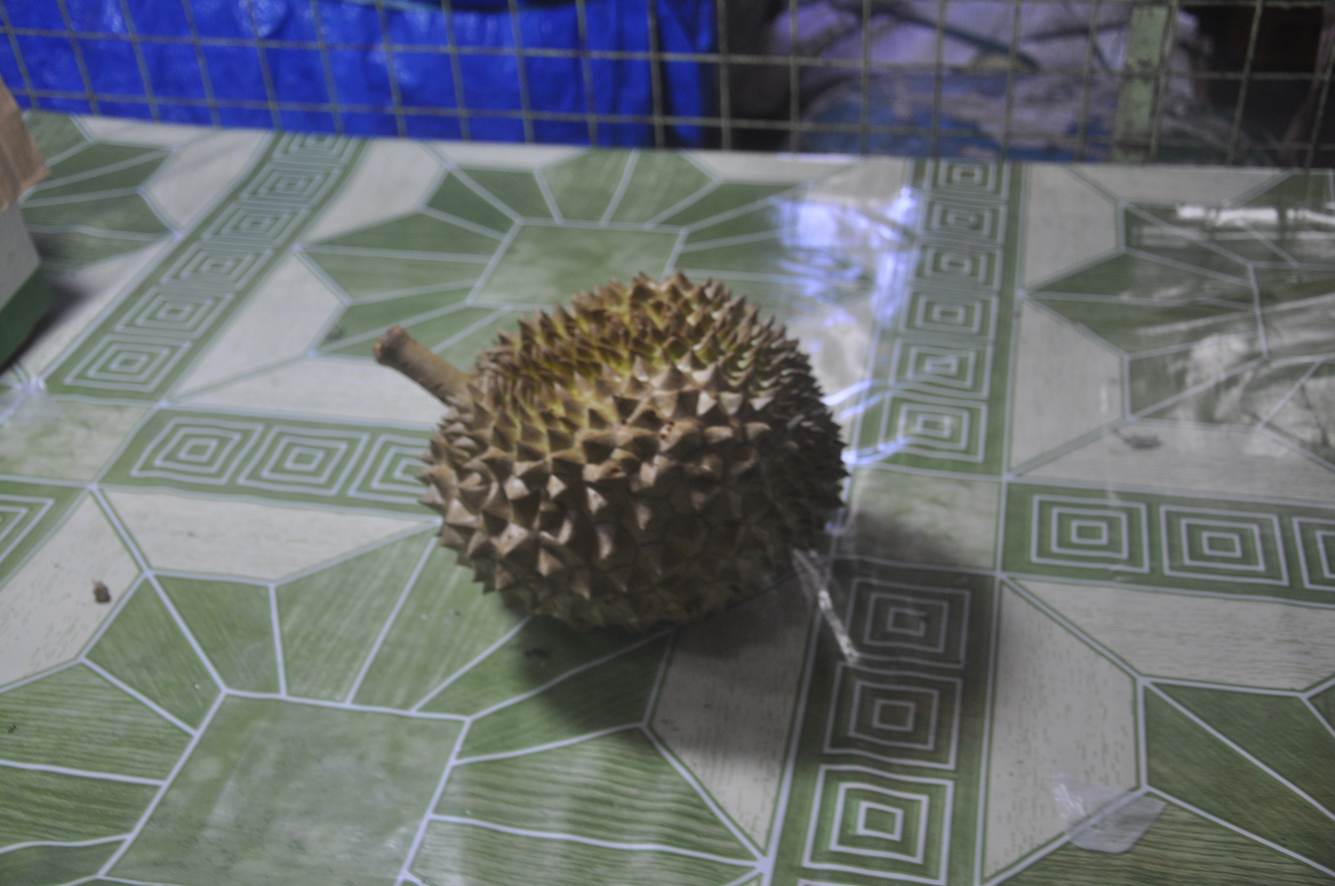mature: (375, 273, 847, 633)
